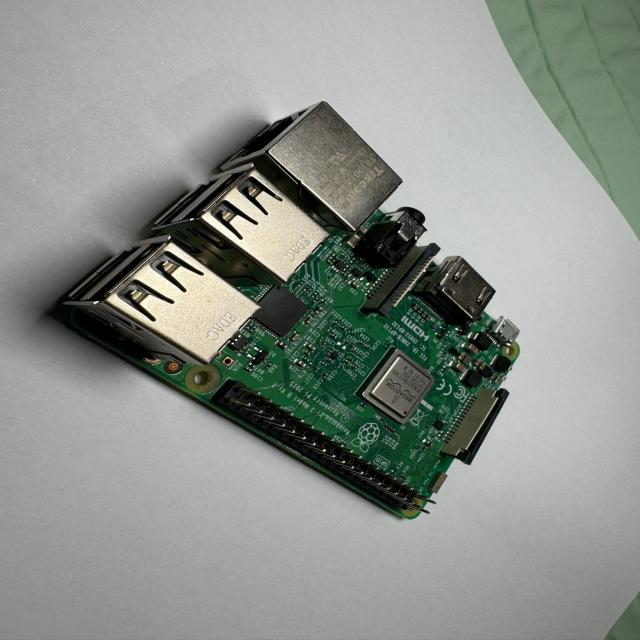CPU: (360, 348, 434, 426)
Ethernet: (215, 100, 400, 243)
GPIO: (185, 385, 429, 520)
HDMI: (422, 257, 498, 329)
RAM-3: (243, 286, 308, 339)
Raspberry: (54, 102, 520, 522)
